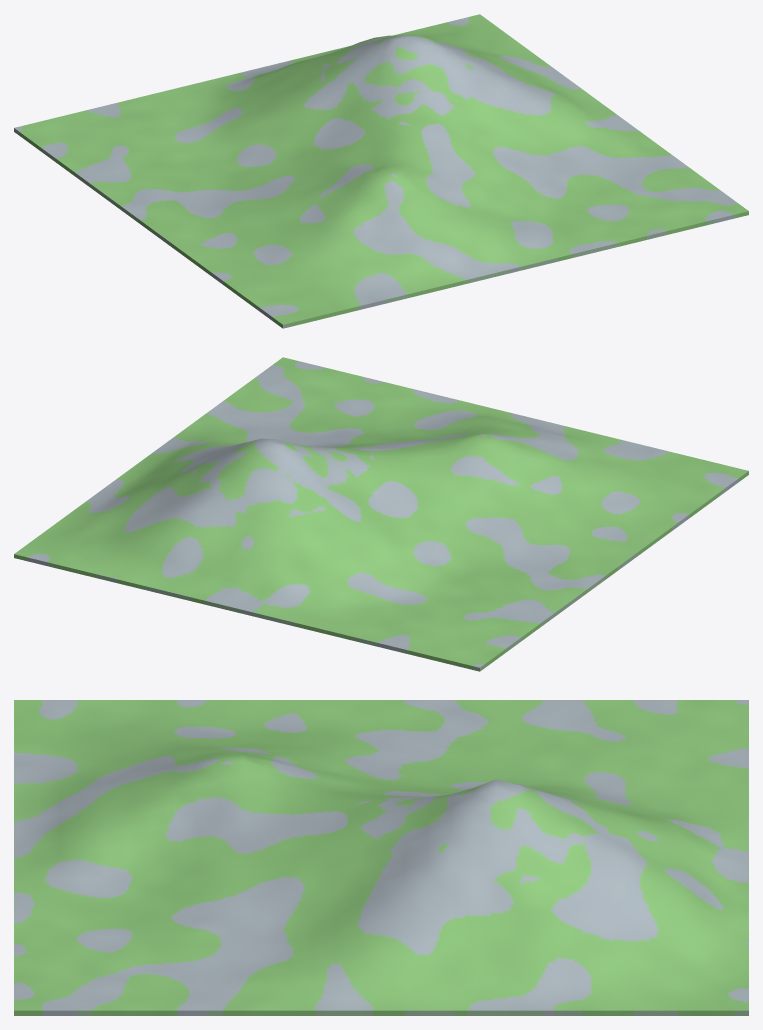
File: Grass_RockyGround_06.obj
3 renders of one model, top to bottom at view 1: azimuth 30°, elevation 25°; view 2: azimuth 150°, elevation 25°; view 3: azimuth 270°, elevation 25°, orthographic. The views are drawn at different scales.
Bounding box in the file's own units: 10 × 1.8 × 10.
Materials: 1 (1 with a texture image).
